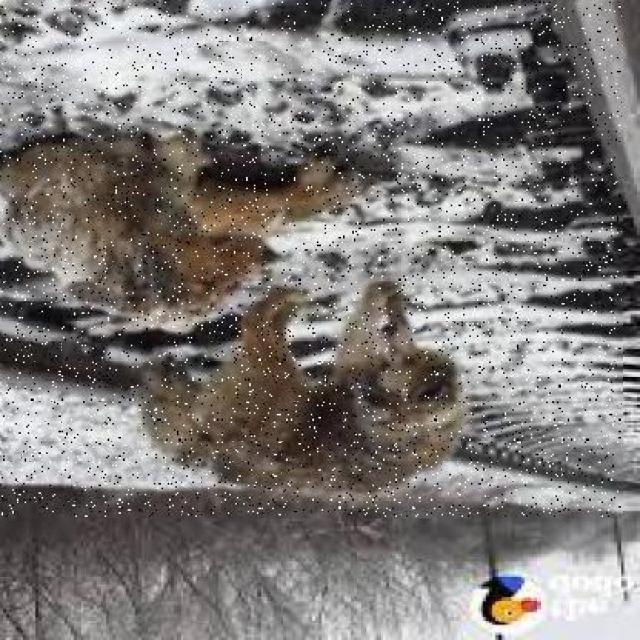danger: (0, 94, 386, 323), (120, 314, 492, 490)
rail: (3, 2, 622, 517)
